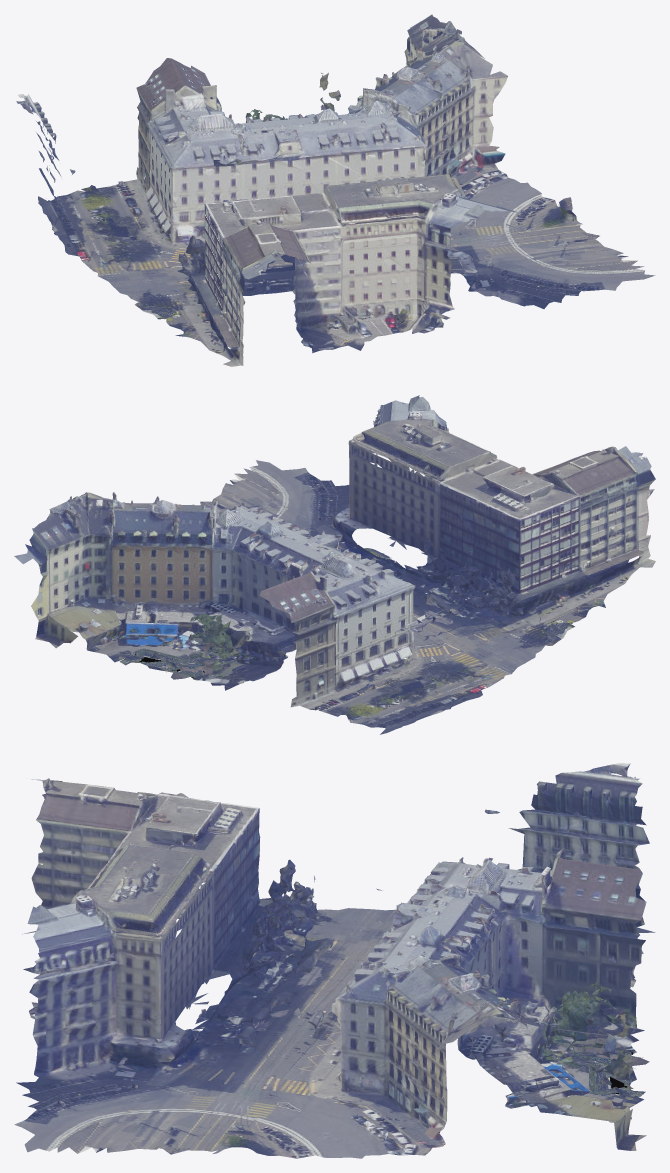
The picture shows the model from 3 angles, top to bottom: view 1: azimuth 30°, elevation 25°; view 2: azimuth 150°, elevation 25°; view 3: azimuth 270°, elevation 25°; orthographic projection. The views are drawn at different scales.
Bounding box in the file's own units: 108 × 30.19 × 109.
Materials: 1 (1 with a texture image).
